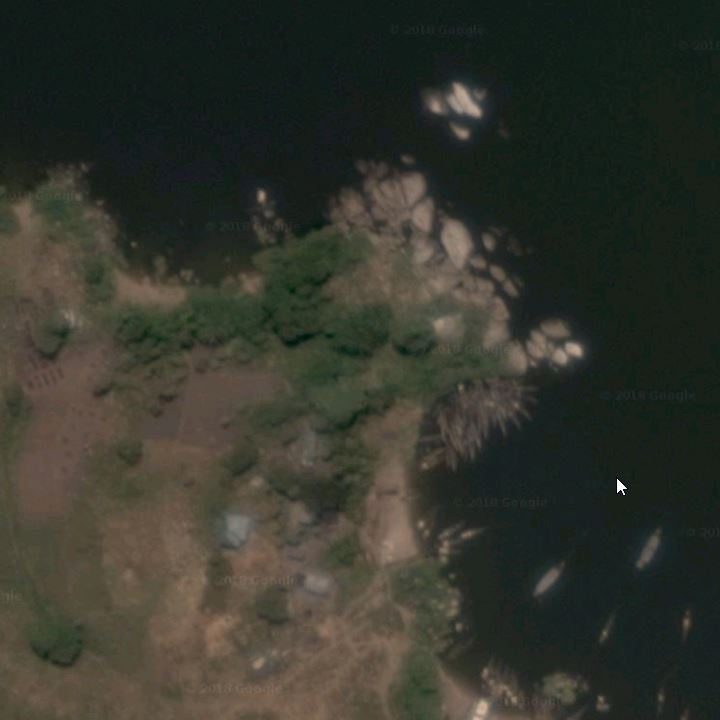boat: (527, 556, 569, 603), (635, 521, 664, 578), (596, 605, 619, 651), (508, 398, 541, 423), (413, 502, 439, 532), (460, 525, 499, 544), (436, 518, 467, 541), (478, 650, 496, 689), (504, 403, 525, 434), (510, 394, 547, 410), (433, 407, 450, 441), (653, 677, 666, 719), (421, 512, 439, 540), (473, 417, 487, 452), (492, 652, 504, 692), (434, 537, 468, 551), (454, 380, 467, 416), (487, 373, 498, 413), (444, 441, 457, 474), (511, 382, 544, 395), (467, 428, 478, 464), (430, 547, 463, 559), (473, 375, 483, 413), (497, 409, 509, 438), (481, 410, 492, 441)
